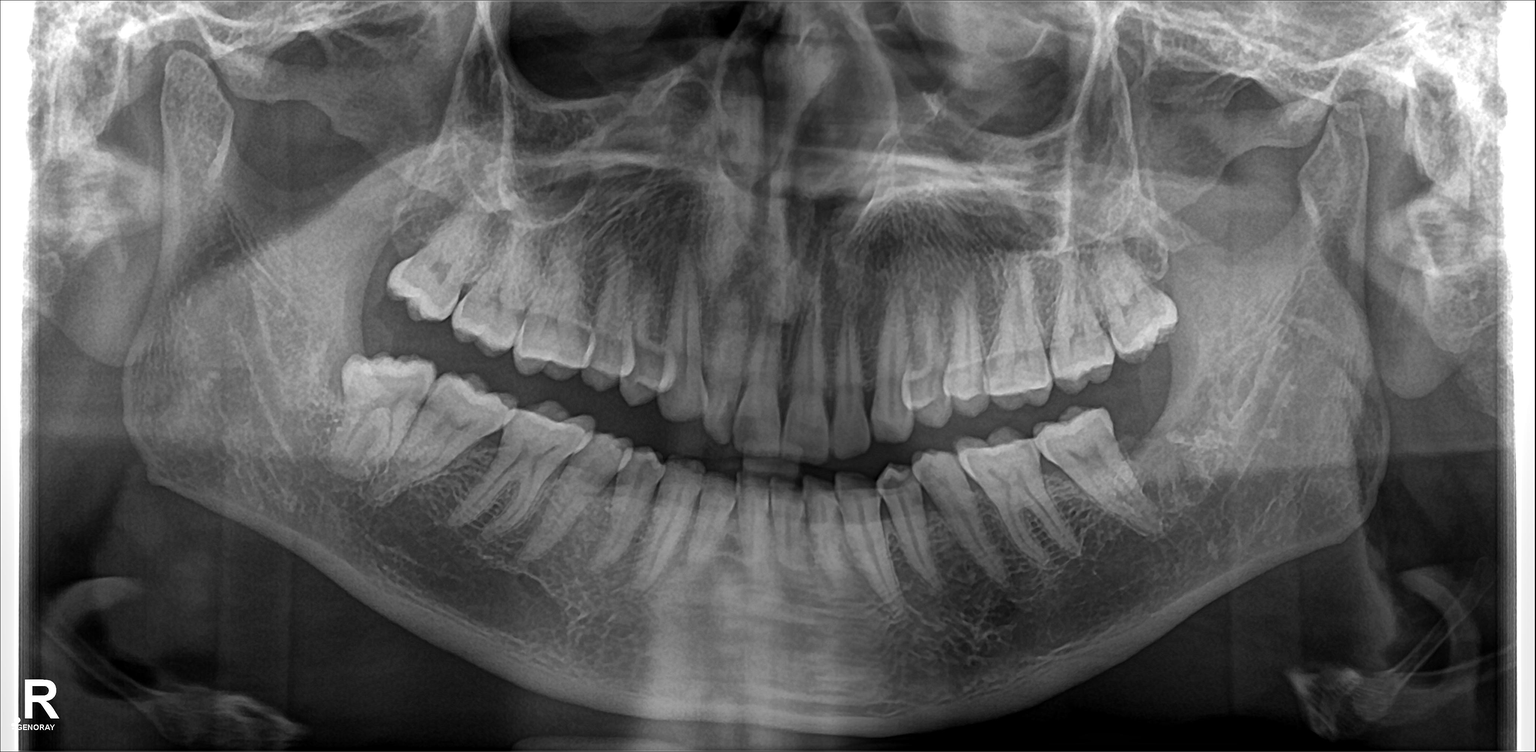Missing Tooth: (1125, 383, 1181, 484)
